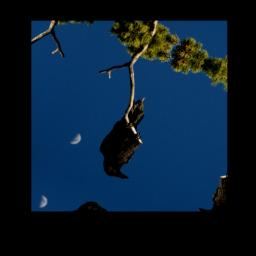Crow: (88, 89, 169, 184)
